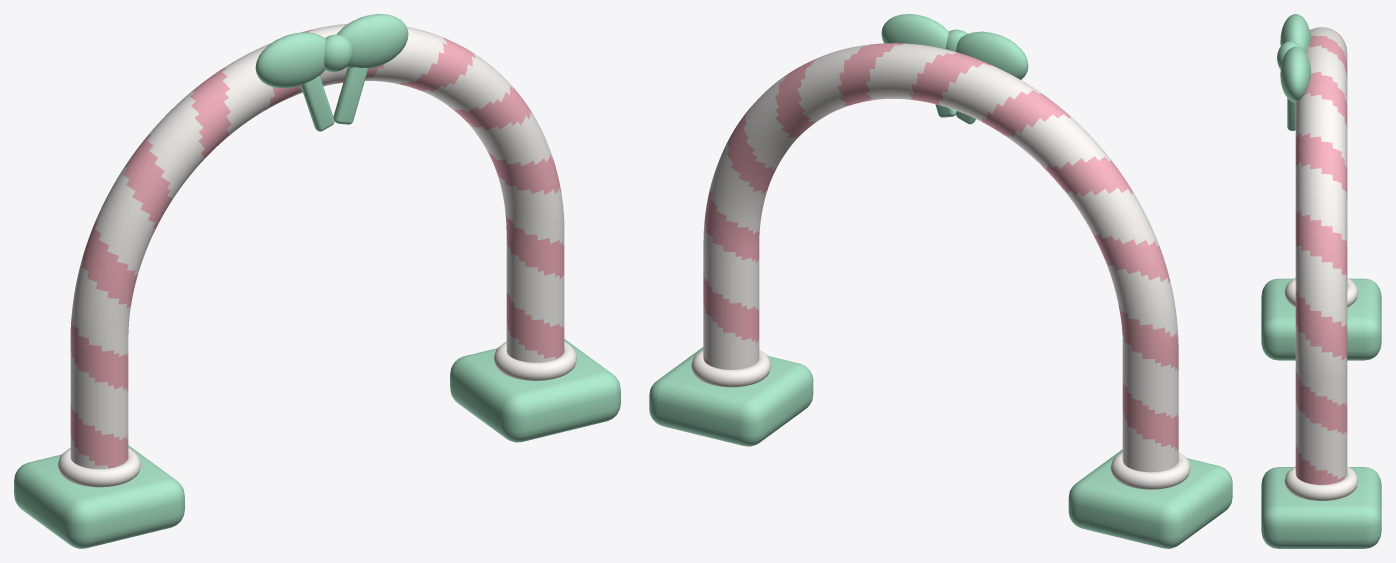
File: candy_cane_arch.glb
3 views of the same model, side by side, from view 1: azimuth 30°, elevation 25°; view 2: azimuth 150°, elevation 25°; view 3: azimuth 270°, elevation 25° (orthographic). The views are drawn at different scales.
Parts seen in each view (by area): view 1: candy_cane_arch; view 2: candy_cane_arch; view 3: candy_cane_arch.
Part boxes in pixels (x1,y1,x2,y2): candy_cane_arch: (14,14,620,548); candy_cane_arch: (649,14,1232,548); candy_cane_arch: (1261,14,1381,548).
Bounding box in the file's own units: 6.6 × 5.14 × 1.4.
